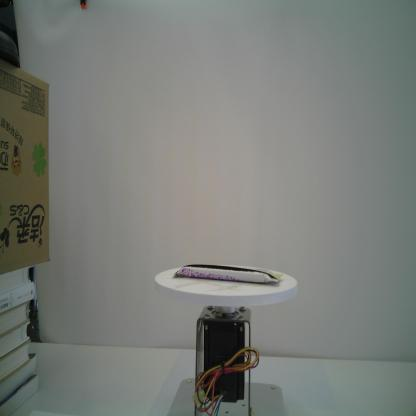Chocolate: (172, 264, 283, 284)
